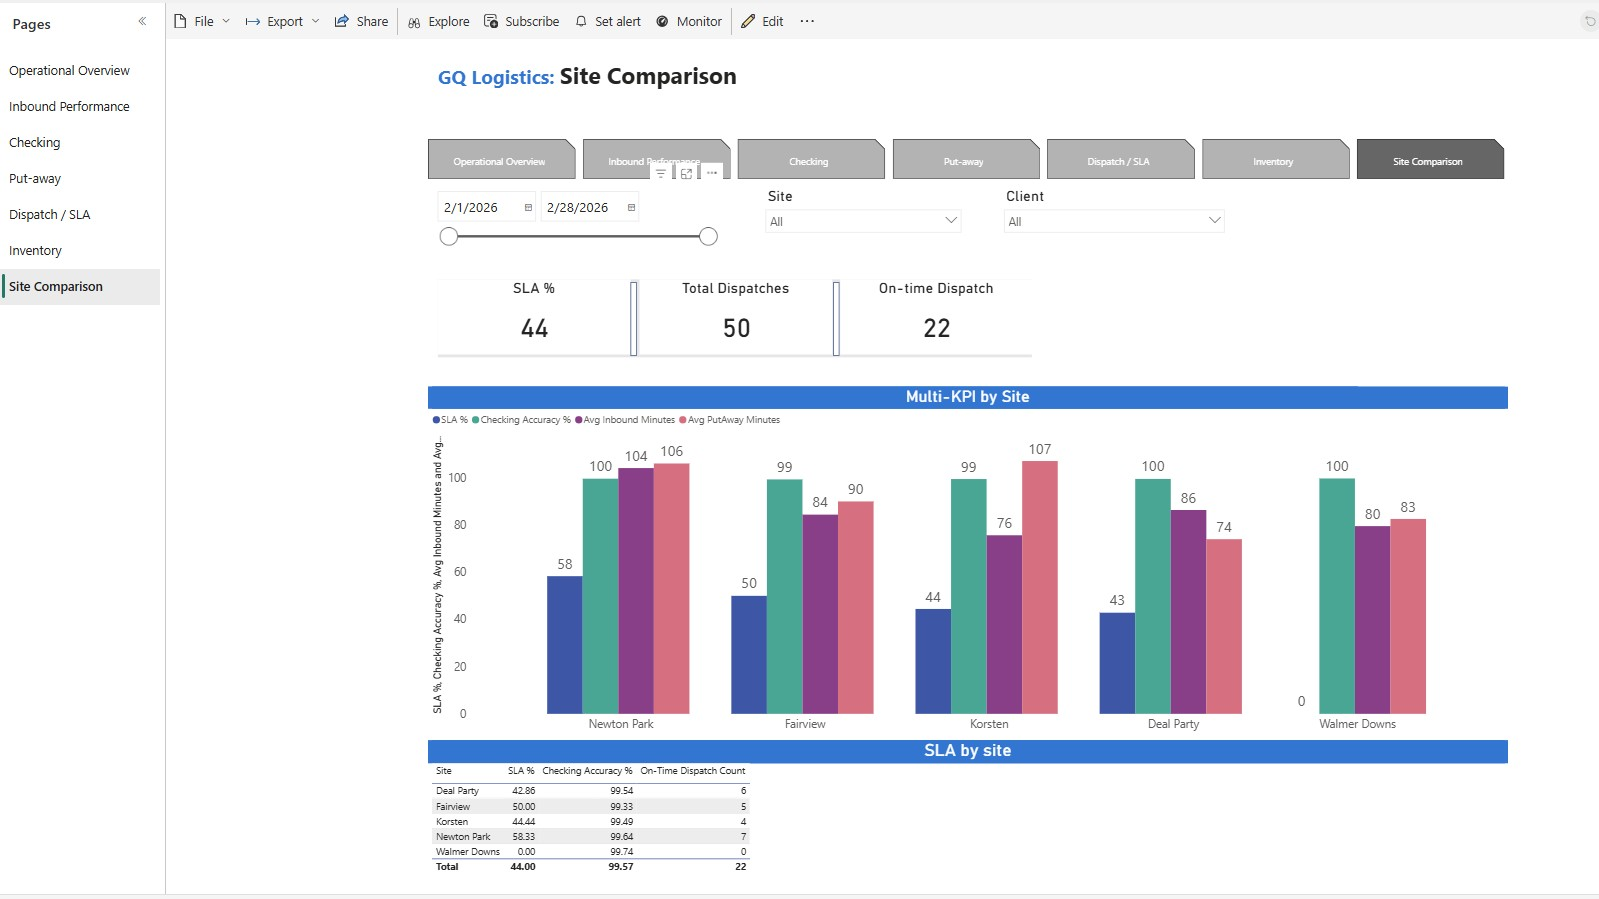

The page's visual inventory and layout, read from the dashboard file:
{"tool":"powerbi","page":{"name":"Site Comparison","canvas":[1500,2300],"ordinal":6},"visuals":[{"type":"clusteredColumnChart","title":"Multi-KPI by Site","fields":{"Category":["dimsite.Site"],"Y":["factdispatch.SLA %","factchecking.Checking Accuracy %","factinbound.Avg Inbound Minutes","factputaway.Avg PutAway Minutes"]},"box":[0,470,1500,491.7],"z":1000},{"type":"pageNavigator","box":[0,126.7,1496.7,56.7],"z":2000},{"type":"slicer","fields":{"Values":["dimdate.Date"]},"box":[0,188.3,410,106.7],"z":3000},{"type":"slicer","fields":{"Values":["dimclient.Client"]},"box":[790,188.3,326.7,106.7],"z":4000},{"type":"slicer","fields":{"Values":["dimsite.Site"]},"box":[458.3,188.3,291.7,106.7],"z":5000},{"type":"textbox","box":[8.3,10,1489,105],"z":6000},{"type":"group","id":"g1","title":"Group 1","box":[13.3,321.7,826,106.7],"z":7000},{"type":"card","title":"SLA %","fields":{"Values":["factdispatch.SLA %"]},"box":[13.3,321.7,267.2,104.7],"z":8000,"group":"g1"},{"type":"tableEx","title":"SLA by site","fields":{"Values":["dimsite.Site","factdispatch.SLA %","factchecking.Checking Accuracy %","factdispatch.On‑Time Dispatch Count"]},"box":[0,961.7,1500,538.3],"z":8000},{"type":"shape","box":[280.5,325.6,9,102.8],"z":10000,"group":"g1"},{"type":"card","title":"Total Dispatches","fields":{"Values":["factdispatch.Dispatch Count"]},"box":[292.7,321.7,267.2,104.7],"z":11000,"group":"g1"},{"type":"card","title":"On-time Dispatch","fields":{"Values":["factdispatch.On‑Time Dispatch Count"]},"box":[572.1,321.7,267.2,104.7],"z":13000,"group":"g1"},{"type":"shape","box":[561.9,325.6,9,102.8],"z":14000,"group":"g1"}]}

Visuals, with their boxes on the page's 1500x2300 design canvas (x1, y1, x2, y2). These are canvas units, not pixel positions in the 1599x899 screenshot, which may show the page scaled, cropped or inside an application window:
"Multi-KPI by Site" clusteredColumnChart: bbox(0, 470, 1500, 962)
pageNavigator: bbox(0, 127, 1497, 183)
slicer - dimdate.Date: bbox(0, 188, 410, 295)
slicer - dimclient.Client: bbox(790, 188, 1117, 295)
slicer - dimsite.Site: bbox(458, 188, 750, 295)
textbox: bbox(8, 10, 1497, 115)
"Group 1" group: bbox(13, 322, 839, 428)
"SLA %" card: bbox(13, 322, 280, 426)
"SLA by site" tableEx: bbox(0, 962, 1500, 1500)
shape: bbox(280, 326, 290, 428)
"Total Dispatches" card: bbox(293, 322, 560, 426)
"On-time Dispatch" card: bbox(572, 322, 839, 426)
shape: bbox(562, 326, 571, 428)
